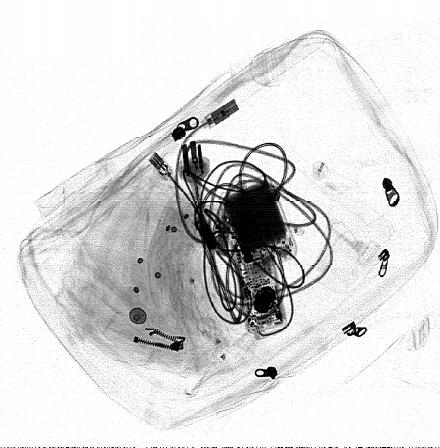Powerbank: (219, 173, 298, 274)
